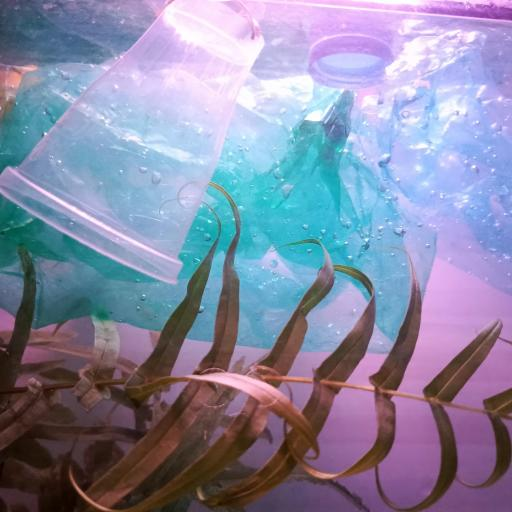bottle_cap: (310, 35, 392, 90)
plastic_bag: (0, 62, 438, 350), (367, 31, 512, 299)
plastic_cup: (0, 0, 269, 285)
